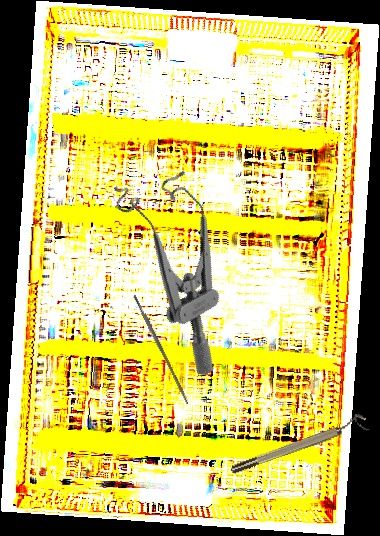Fixation Ring: (227, 411, 370, 477)
Scalpel Handle: (132, 294, 191, 405)
Speculum: (96, 153, 278, 378)
